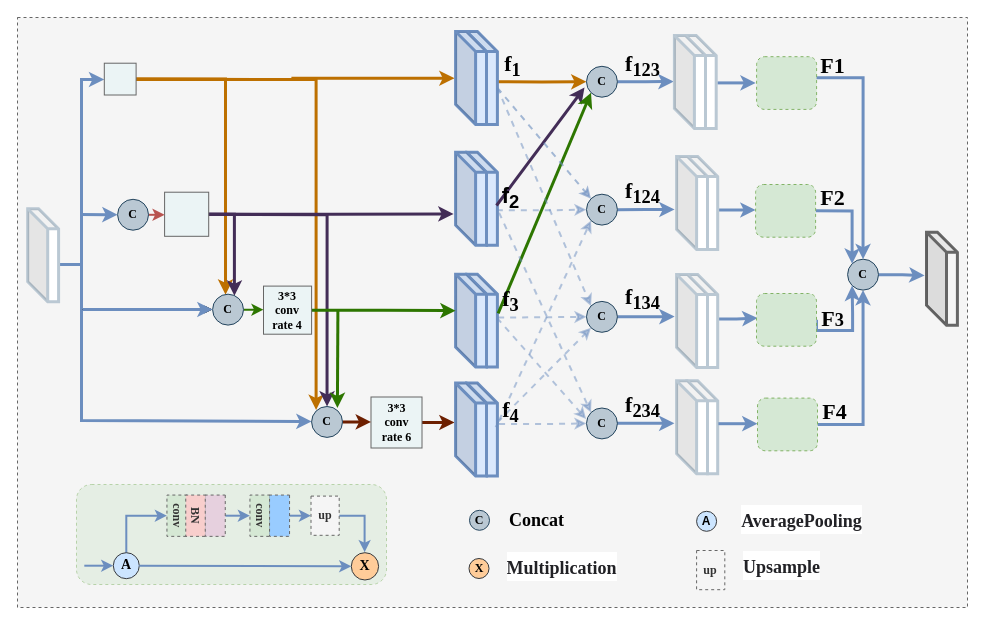
The diagram is 985 pixels wide and 625 high, and some of its shapes have lost their labels. Each missing label, with the box of its shape:
1*1 conv: (103, 62, 136, 95)
3*3 conv rate 2: (164, 191, 209, 236)
PRelu: (204, 494, 225, 536)
softmax: (269, 494, 290, 536)
